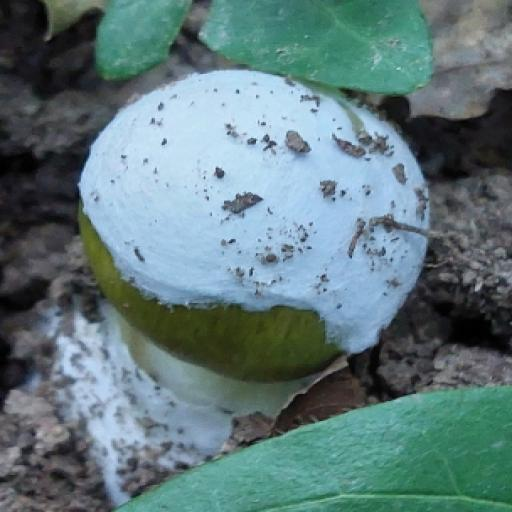Death Cap: (27, 0, 485, 455)
